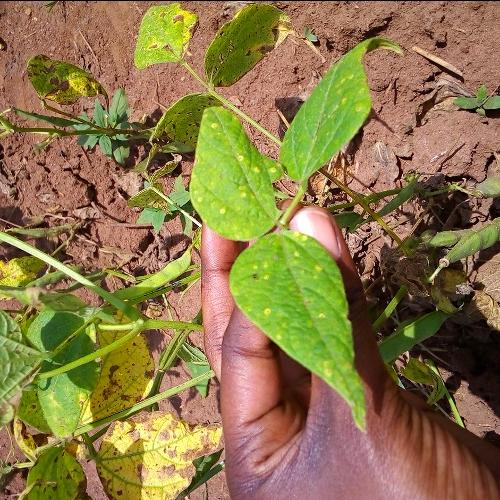hawar: (226, 86, 384, 401)
mozaik: (72, 320, 213, 498)
